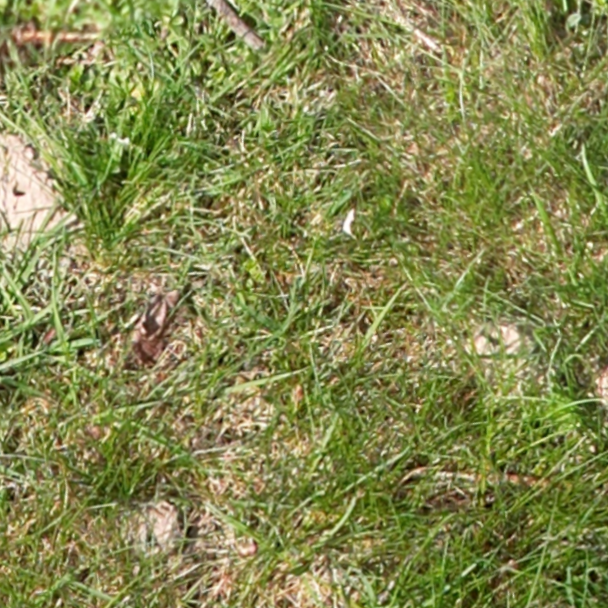nest: (0, 134, 79, 247)
